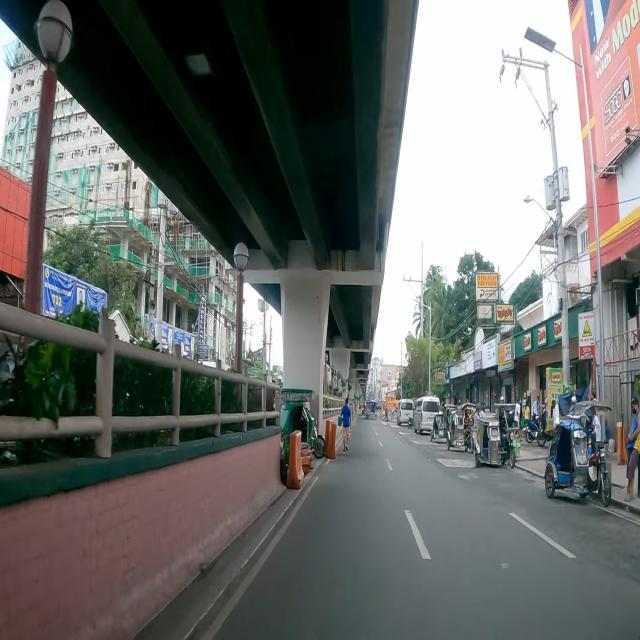car: (413, 396, 441, 436), (397, 399, 414, 427)
jeepney: (366, 400, 378, 420)
motorcycle: (526, 408, 546, 444)
tricycle: (544, 399, 612, 508), (278, 388, 326, 460), (476, 402, 516, 470), (446, 403, 476, 454), (431, 404, 458, 442)
